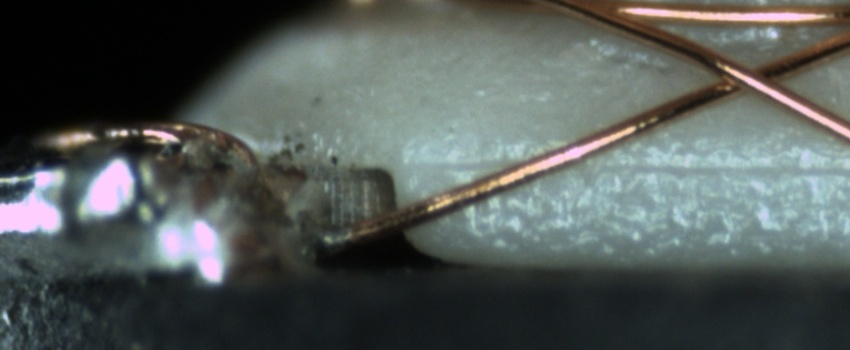CL: (693, 53, 802, 103)
DL: (410, 131, 850, 196)
TE: (35, 117, 273, 161)
